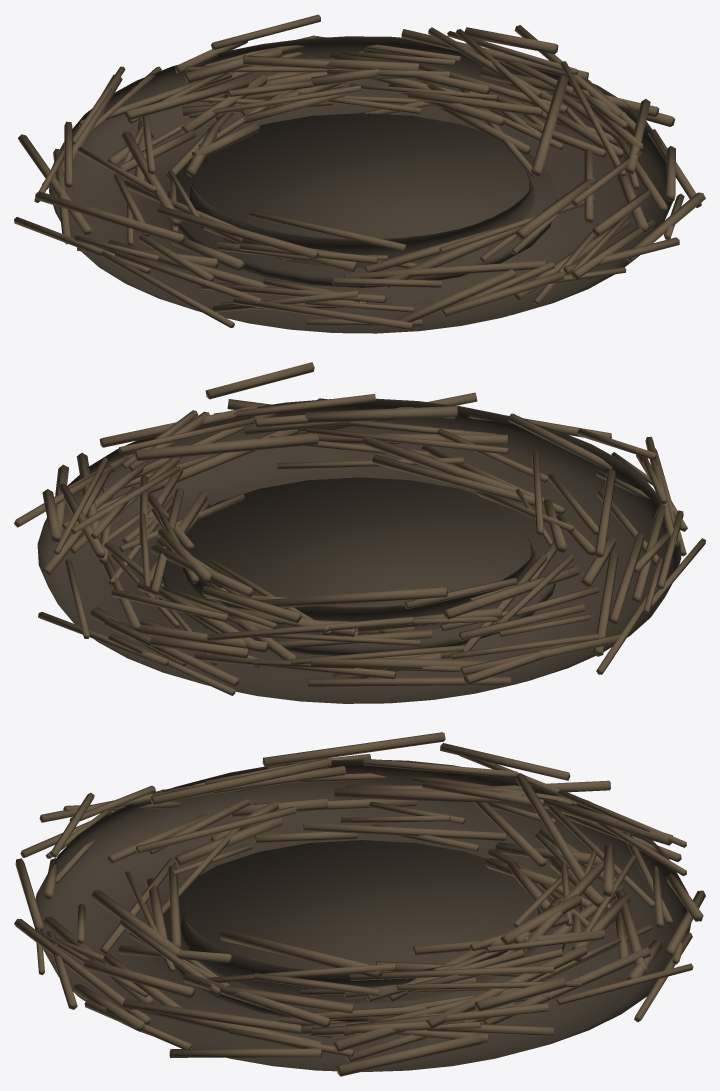
Rendered from nest.glb.
3 views of the same model, one above another, from view 1: azimuth 30°, elevation 25°; view 2: azimuth 150°, elevation 25°; view 3: azimuth 270°, elevation 25° (orthographic). The views are drawn at different scales.
Visible parts, largest first — view 1: mound, bed, stick.015, stick.013, stick.064, stick.016, stick.118, stick.131, stick.028, stick.068, stick.062, stick.032 (+76 smaller); view 2: mound, bed, stick.132, stick.028, stick.055, stick.019, stick.134, stick.139, stick.092, stick.101, stick.138, stick.012 (+70 smaller); view 3: mound, bed, stick.015, stick.064, stick.132, stick.071, stick.012, stick.026, stick.076, stick.098, stick.088, stick.089 (+77 smaller).
Boxes of the visible parts, x1,y1,x2,y2 form: mound: (49, 36, 673, 333); bed: (167, 113, 556, 287); stick.015: (157, 206, 318, 258); stick.013: (344, 260, 545, 278); stick.064: (35, 191, 184, 242); stick.016: (233, 296, 413, 330); stick.118: (407, 90, 542, 116); stick.131: (248, 210, 406, 251); stick.028: (124, 78, 249, 119); stick.068: (441, 271, 564, 316); stick.062: (395, 269, 515, 322); stick.032: (401, 29, 588, 78); mound: (37, 398, 681, 703); bed: (162, 477, 559, 655); stick.132: (134, 433, 318, 460); stick.028: (261, 587, 447, 607); stick.055: (305, 406, 457, 422); stick.019: (307, 677, 511, 686); stick.134: (362, 435, 543, 498); stick.139: (372, 455, 542, 506); stick.092: (207, 617, 413, 640); stick.101: (310, 656, 491, 668); stick.138: (306, 427, 508, 454); stick.012: (443, 566, 579, 619); mound: (35, 759, 691, 1072); bed: (163, 840, 565, 1021); stick.015: (151, 758, 331, 805); stick.064: (262, 732, 445, 766); stick.132: (219, 929, 382, 978); stick.071: (303, 822, 505, 840); stick.012: (334, 787, 522, 803); stick.026: (336, 1033, 483, 1076); stick.076: (132, 1001, 331, 1037); stick.098: (349, 965, 554, 980); stick.088: (14, 918, 150, 1025); stick.089: (183, 972, 330, 1027).
Size of the model in its own units: 3 by 0.4639 by 2.87.
